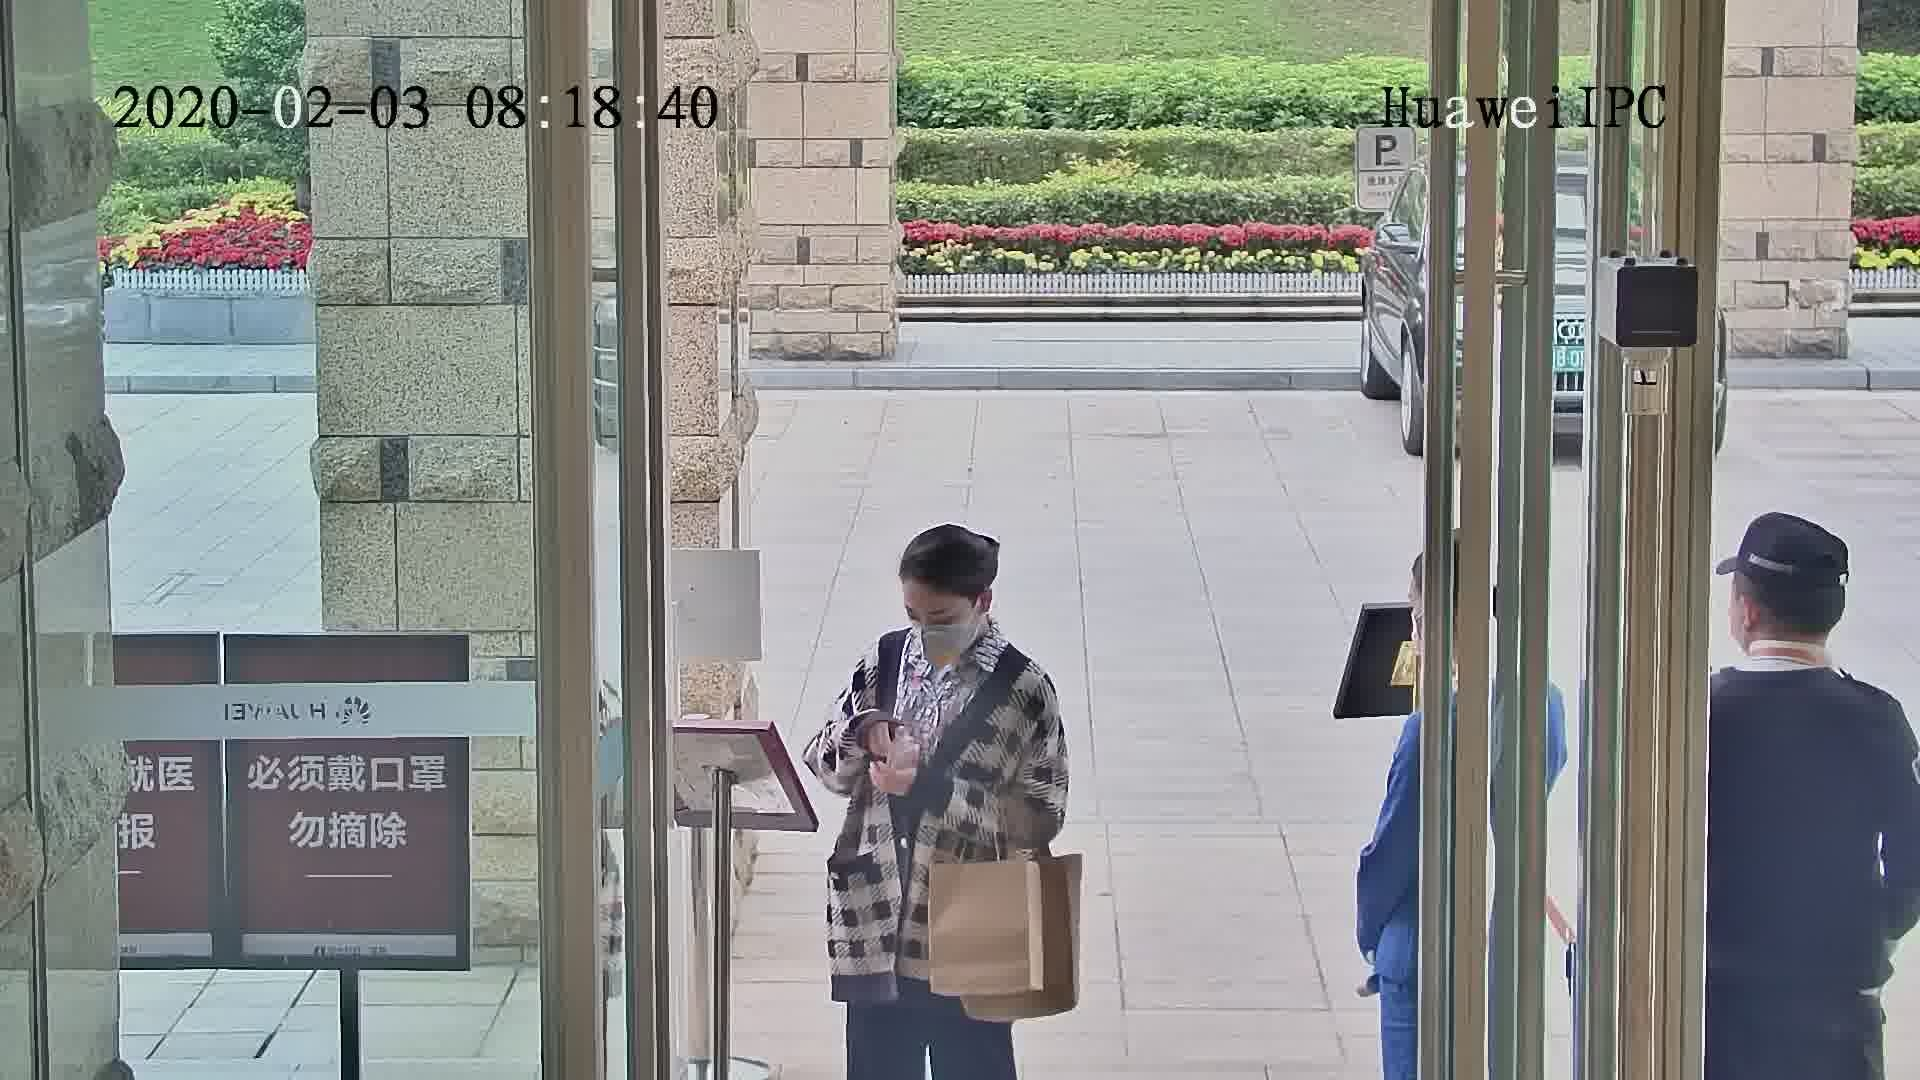face: (903, 586, 989, 673)
mask: (907, 622, 978, 671)
person: (1702, 505, 1908, 781), (850, 519, 1054, 704)
